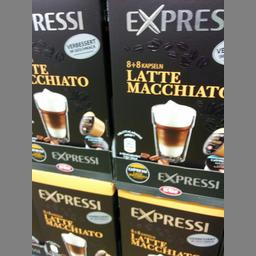coffee: (106, 0, 222, 195), (32, 0, 111, 181), (31, 168, 114, 255), (116, 188, 222, 254)
